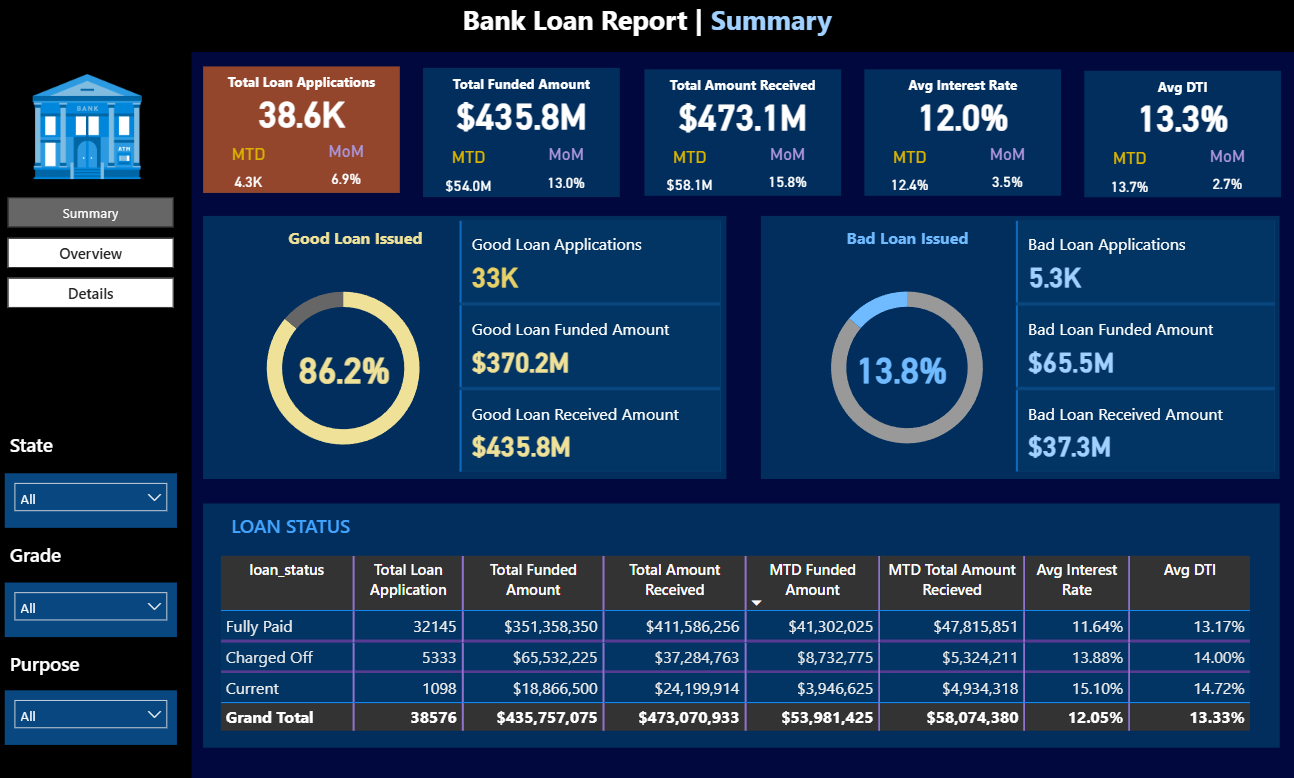

What the dashboard file says about the page in this screenshot:
{"tool":"powerbi","page":{"name":"Summary","canvas":[1287,780],"ordinal":0},"visuals":[{"type":"shape","box":[0,0,1287.1,55.7],"z":0},{"type":"shape","box":[0,55.7,191.4,724.3],"z":0,"group":"g10"},{"type":"shape","box":[202.9,70,195.7,125.7],"z":0,"group":"g4"},{"type":"shape","box":[421.4,71.4,195.7,128.4],"z":0,"group":"g2"},{"type":"shape","box":[640.7,72.9,195.7,125.7],"z":0,"group":"g3"},{"type":"shape","box":[859.6,72.9,195.7,125.7],"z":0,"group":"g5"},{"type":"shape","box":[1078.6,74.3,195.7,125.7],"z":0,"group":"g6"},{"type":"shape","box":[202.9,218.6,520,261.4],"z":0,"group":"g7"},{"type":"shape","box":[757.1,218.6,515.5,261.4],"z":0,"group":"g8"},{"type":"shape","box":[202.9,504.3,1070,242.9],"z":0,"group":"g11"},{"type":"textbox","box":[455.7,0,388.6,54.3],"z":1000},{"type":"card","fields":{"Values":["bank_loan_data.Total Loan Application"]},"box":[202.9,85.7,195.7,58.6],"z":1000,"group":"g4"},{"type":"card","fields":{"Values":["Date Table.Total Funded Amount"]},"box":[421.4,87.4,195.7,59.8],"z":1000,"group":"g2"},{"type":"card","fields":{"Values":["Date Table.Total Amount Received"]},"box":[640.7,88.6,195.7,58.6],"z":1000,"group":"g3"},{"type":"card","fields":{"Values":["Date Table.Avg Interest Rate"]},"box":[859.6,88.6,195.7,58.6],"z":1000,"group":"g5"},{"type":"card","fields":{"Values":["Date Table.Avg DTI"]},"box":[1078.6,90,195.7,58.6],"z":1000,"group":"g6"},{"type":"donutChart","fields":{"Category":["bank_loan_data.Good v Bad Loan"],"Y":["bank_loan_data.Total Loan Application"]},"box":[202.9,269.7,278.6,199.8],"z":1000,"group":"g7"},{"type":"donutChart","fields":{"Category":["bank_loan_data.Good v Bad Loan"],"Y":["bank_loan_data.Total Loan Application"]},"box":[764,270.2,276.4,198.6],"z":1000,"group":"g8"},{"type":"textbox","box":[5.7,645.7,97.1,44.3],"z":1000,"group":"g10"},{"type":"group","id":"g1","title":"Group 1","box":[202.9,70,195.7,135.7],"z":2000},{"type":"textbox","box":[202.9,71.4,195.7,28.6],"z":2000,"group":"g4"},{"type":"textbox","box":[421.4,72.9,195.7,29.2],"z":2000,"group":"g2"},{"type":"textbox","box":[640.7,74.3,195.7,28.6],"z":2000,"group":"g3"},{"type":"textbox","box":[859.6,74.3,195.7,28.6],"z":2000,"group":"g5"},{"type":"textbox","box":[1078.6,75.7,195.7,28.6],"z":2000,"group":"g6"},{"type":"slicer","fields":{"Values":["bank_loan_data.address_state"]},"box":[5.7,474.3,171.4,54.3],"z":2000,"group":"g10"},{"type":"group","id":"g2","title":"Group 2","box":[421.4,71.4,195.7,138.6],"z":3000},{"type":"card","title":"MTD","fields":{"Values":["Date Table.MTD Loan Applications"]},"box":[214.3,147.1,67.1,58.6],"z":3000,"group":"g4"},{"type":"card","title":"MTD","fields":{"Values":["Date Table.MTD Total Amount Recieved"]},"box":[652.1,150,67.1,58.6],"z":3000,"group":"g3"},{"type":"card","title":"MTD","fields":{"Values":["Date Table.MTD Avg Int Rate"]},"box":[871,150,67.1,58.6],"z":3000,"group":"g5"},{"type":"card","title":"MTD","fields":{"Values":["Date Table.MTD Funded Amount"]},"box":[432.8,150.2,67.1,59.8],"z":3000,"group":"g2"},{"type":"card","title":"MTD","fields":{"Values":["Date Table.MTD Avg DTI"]},"box":[1090,151.4,67.1,58.6],"z":3000,"group":"g6"},{"type":"textbox","box":[256,224.5,197.1,45.7],"z":3000,"group":"g7"},{"type":"textbox","box":[799.8,224.5,205.7,45.7],"z":3000,"group":"g8"},{"type":"slicer","fields":{"Values":["bank_loan_data.grade"]},"box":[5.7,582.8,171.4,54.3],"z":3000,"group":"g10"},{"type":"group","id":"g3","title":"Group 2","box":[640.7,72.9,195.7,135.7],"z":4000},{"type":"card","title":"MoM","fields":{"Values":["Date Table.MoM Loan Application"]},"box":[311.5,144.3,67.1,58.6],"z":4000,"group":"g4"},{"type":"card","title":"MoM","fields":{"Values":["Date Table.MoM Total Funded Amount"]},"box":[530,147.2,67.1,59.8],"z":4000,"group":"g2"},{"type":"card","title":"MoM","fields":{"Values":["Date Table.MoM Total Amount Recieved"]},"box":[749.3,147.2,67.1,58.6],"z":4000,"group":"g3"},{"type":"card","title":"MoM","fields":{"Values":["Date Table.MoM Avg Int Rate"]},"box":[968.2,147.2,67.1,58.6],"z":4000,"group":"g5"},{"type":"card","title":"MoM","fields":{"Values":["Date Table.MoM Avg DTI"]},"box":[1187.2,148.6,67.1,58.6],"z":4000,"group":"g6"},{"type":"textbox","box":[5.7,428.6,97.1,45.7],"z":4000,"group":"g10"},{"type":"group","id":"g4","title":"Group 2","box":[202.9,70,195.7,135.7],"z":4005,"group":"g1"},{"type":"group","id":"g5","title":"Group 2","box":[859.6,72.9,195.7,135.7],"z":5000},{"type":"card","fields":{"Values":["Date Table.Good Loan %"]},"box":[284.8,346.3,117.7,46.6],"z":5000,"group":"g7"},{"type":"card","fields":{"Values":["Date Table.Bad Loan %"]},"box":[838.3,346.3,116.7,46.6],"z":5000,"group":"g8"},{"type":"slicer","fields":{"Values":["bank_loan_data.purpose"]},"box":[5.7,690,171.4,54.3],"z":5000,"group":"g10"},{"type":"group","id":"g6","title":"Group 2","box":[1078.6,74.3,194.3,134.3],"z":6000},{"type":"textbox","box":[5.7,537.1,85.7,45.7],"z":6000,"group":"g10"},{"type":"image","box":[28.6,70,118.6,120],"z":7000,"group":"g10"},{"type":"group","id":"g7","title":"Group 3","box":[202.9,218.6,520,261.4],"z":7000},{"type":"pageNavigator","box":[8.6,200.4,165.7,110],"z":8000,"group":"g10"},{"type":"group","id":"g8","title":"Group 3","box":[757.1,218.6,515.7,261.4],"z":8000},{"type":"group","id":"g9","title":"Group 4","box":[202.9,504.3,1070,242.9],"z":9000},{"type":"group","id":"g10","title":"Group 5","box":[0,55.7,191.4,724.3],"z":10001},{"type":"group","id":"g11","title":"Group 6","box":[202.9,504.3,1070,242.9],"z":10002,"group":"g9"},{"type":"tableEx","fields":{"Values":["bank_loan_data.loan_status","bank_loan_data.Total Loan Application","Date Table.Total Funded Amount","Date Table.Total Amount Received","Date Table.MTD Funded Amount","Date Table.MTD Total Amount Recieved","Date Table.Avg Interest Rate","Date Table.Avg DTI"]},"box":[215,551.7,1042.9,184.2],"z":11000,"group":"g11"},{"type":"cardVisual","fields":{"Data":["Date Table.Good Loan Applications","Date Table.Good Loan Funded Amount","Date Table.Good Loan Received Amount"]},"box":[453.2,218.6,269.7,261.4],"z":13000,"group":"g7"},{"type":"cardVisual","fields":{"Data":["Date Table.Bad Loan Applications","Date Table.Bad Loan Funded Amount","Date Table.Bad Loan Received Amount"]},"box":[1005.2,218.6,267.3,261.4],"z":13000,"group":"g8"},{"type":"textbox","box":[225.1,508.1,194.2,42.2],"z":14000,"group":"g11"}]}

Visuals, with their boxes in screenshot pixels (x1, y1, x2, y2), scaled from the page's 1287x780 canvas onto the 1294x778 screenshot:
shape: [left=0, top=0, right=1293, bottom=56]
shape: [left=0, top=56, right=192, bottom=777]
shape: [left=204, top=70, right=401, bottom=195]
shape: [left=424, top=71, right=620, bottom=199]
shape: [left=644, top=73, right=841, bottom=198]
shape: [left=864, top=73, right=1061, bottom=198]
shape: [left=1084, top=74, right=1281, bottom=199]
shape: [left=204, top=218, right=727, bottom=479]
shape: [left=761, top=218, right=1280, bottom=479]
shape: [left=204, top=503, right=1280, bottom=745]
textbox: [left=458, top=0, right=849, bottom=54]
card - bank_loan_data.Total Loan Application: [left=204, top=85, right=401, bottom=144]
card - Date Table.Total Funded Amount: [left=424, top=87, right=620, bottom=147]
card - Date Table.Total Amount Received: [left=644, top=88, right=841, bottom=147]
card - Date Table.Avg Interest Rate: [left=864, top=88, right=1061, bottom=147]
card - Date Table.Avg DTI: [left=1084, top=90, right=1281, bottom=148]
donutChart - bank_loan_data.Good v Bad Loan x bank_loan_data.Total Loan Application: [left=204, top=269, right=484, bottom=468]
donutChart - bank_loan_data.Good v Bad Loan x bank_loan_data.Total Loan Application: [left=768, top=270, right=1046, bottom=468]
textbox: [left=6, top=644, right=103, bottom=688]
"Group 1" group: [left=204, top=70, right=401, bottom=205]
textbox: [left=204, top=71, right=401, bottom=100]
textbox: [left=424, top=73, right=620, bottom=102]
textbox: [left=644, top=74, right=841, bottom=103]
textbox: [left=864, top=74, right=1061, bottom=103]
textbox: [left=1084, top=76, right=1281, bottom=104]
slicer - bank_loan_data.address_state: [left=6, top=473, right=178, bottom=527]
"Group 2" group: [left=424, top=71, right=620, bottom=209]
"MTD" card: [left=215, top=147, right=283, bottom=205]
"MTD" card: [left=656, top=150, right=723, bottom=208]
"MTD" card: [left=876, top=150, right=943, bottom=208]
"MTD" card: [left=435, top=150, right=503, bottom=209]
"MTD" card: [left=1096, top=151, right=1163, bottom=209]
textbox: [left=257, top=224, right=456, bottom=270]
textbox: [left=804, top=224, right=1011, bottom=270]
slicer - bank_loan_data.grade: [left=6, top=581, right=178, bottom=635]
"Group 2" group: [left=644, top=73, right=841, bottom=208]
"MoM" card: [left=313, top=144, right=381, bottom=202]
"MoM" card: [left=533, top=147, right=600, bottom=206]
"MoM" card: [left=753, top=147, right=821, bottom=205]
"MoM" card: [left=973, top=147, right=1041, bottom=205]
"MoM" card: [left=1194, top=148, right=1261, bottom=207]
textbox: [left=6, top=428, right=103, bottom=473]
"Group 2" group: [left=204, top=70, right=401, bottom=205]
"Group 2" group: [left=864, top=73, right=1061, bottom=208]
card - Date Table.Good Loan %: [left=286, top=345, right=405, bottom=392]
card - Date Table.Bad Loan %: [left=843, top=345, right=960, bottom=392]
slicer - bank_loan_data.purpose: [left=6, top=688, right=178, bottom=742]
"Group 2" group: [left=1084, top=74, right=1280, bottom=208]
textbox: [left=6, top=536, right=92, bottom=581]
image: [left=29, top=70, right=148, bottom=190]
"Group 3" group: [left=204, top=218, right=727, bottom=479]
pageNavigator: [left=9, top=200, right=175, bottom=310]
"Group 3" group: [left=761, top=218, right=1280, bottom=479]
"Group 4" group: [left=204, top=503, right=1280, bottom=745]
"Group 5" group: [left=0, top=56, right=192, bottom=777]
"Group 6" group: [left=204, top=503, right=1280, bottom=745]
tableEx - bank_loan_data.loan_status x bank_loan_data.Total Loan Application: [left=216, top=550, right=1265, bottom=734]
cardVisual - Date Table.Good Loan Applications x Date Table.Good Loan Funded Amount: [left=456, top=218, right=727, bottom=479]
cardVisual - Date Table.Bad Loan Applications x Date Table.Bad Loan Funded Amount: [left=1011, top=218, right=1279, bottom=479]
textbox: [left=226, top=507, right=422, bottom=549]
